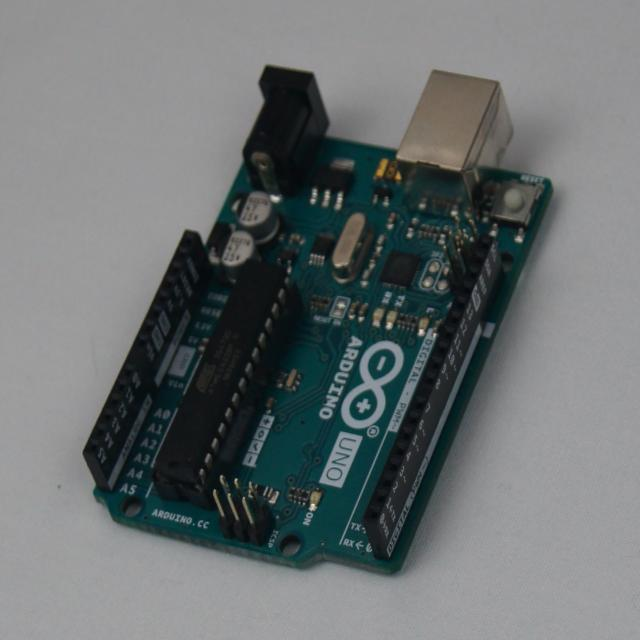Arduino Uno -Green-: (84, 67, 550, 574)
